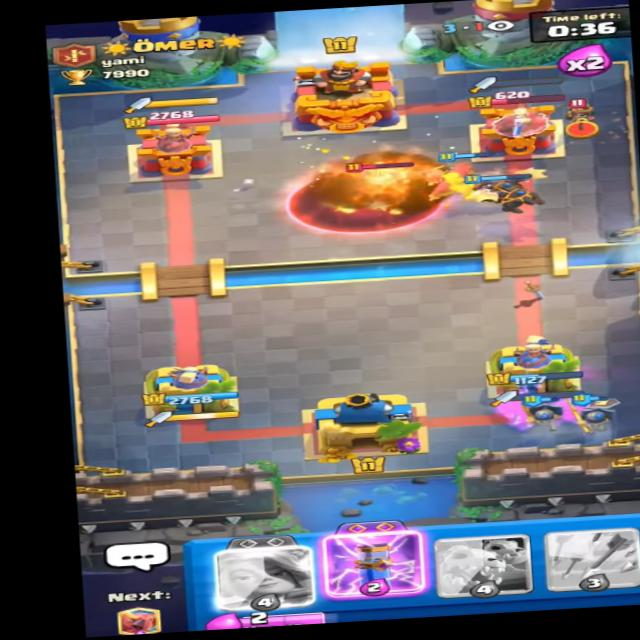little-prince: (562, 94, 610, 136)
tesla: (333, 157, 422, 208)
